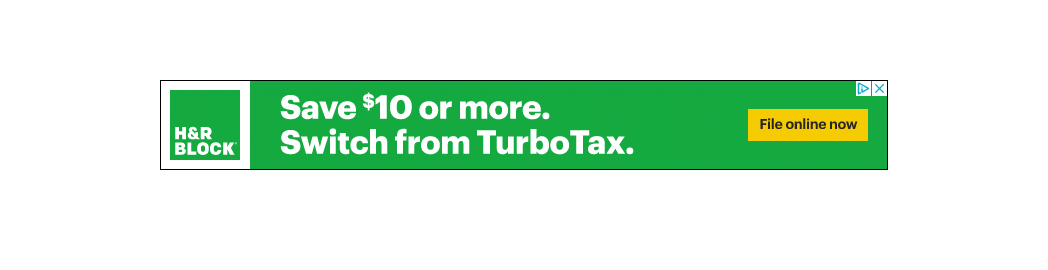fake_button: (736, 99, 873, 147)
